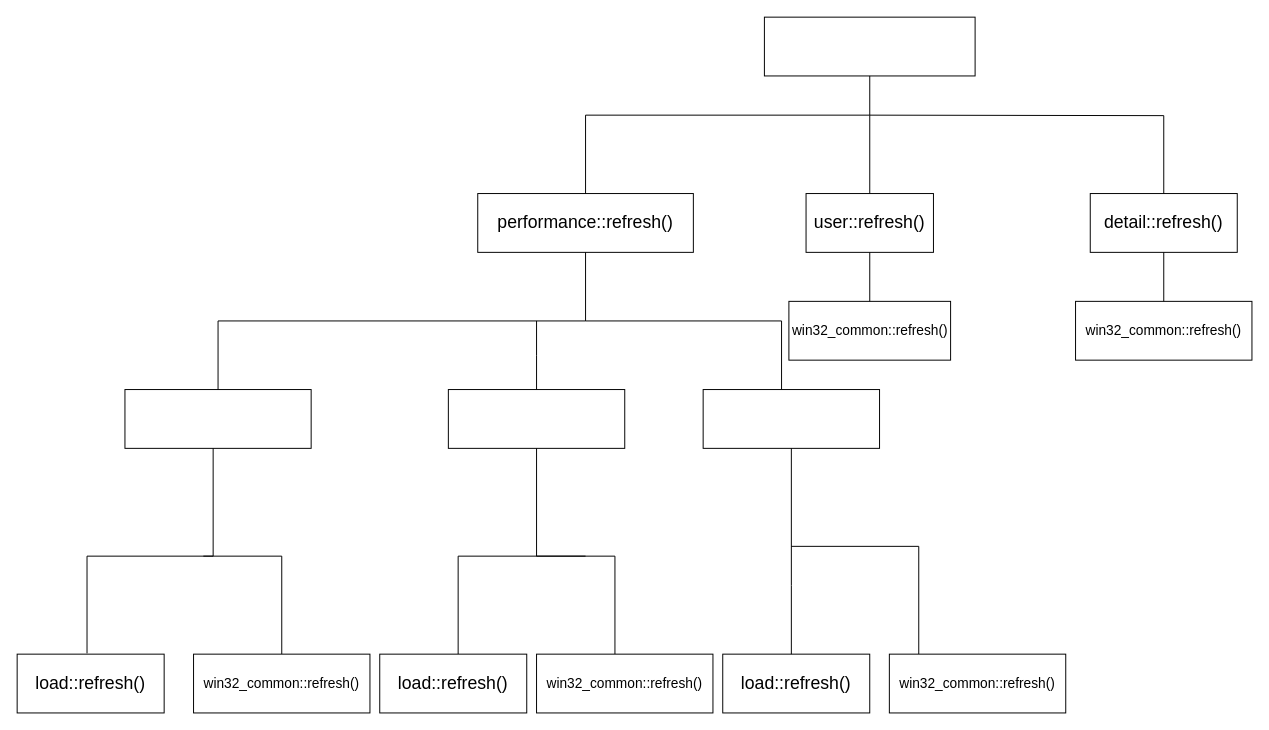
The diagram is 1269 pixels wide and 730 high, and some of its shapes have lost their labels. The centre of each missing label's shape, as x and y in pixels:
cpuPage ::refresh(): (x=217, y=418)
memPage ::refresh(): (x=536, y=418)
Taskmgr::refresh(): (x=869, y=46)
thubmnail ::refresh(): (x=791, y=418)
